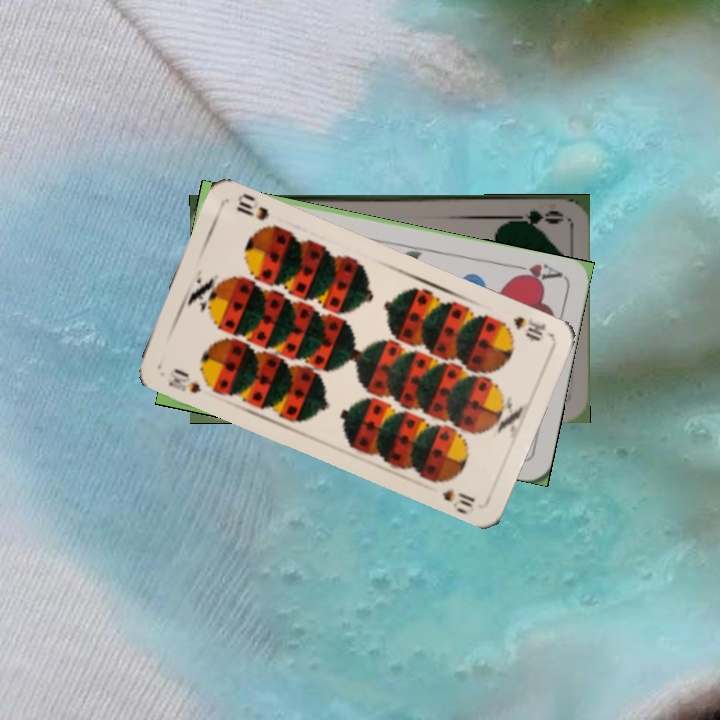GO: (504, 206, 563, 228)
HA: (506, 260, 565, 287)
S10: (508, 312, 549, 344), (164, 364, 205, 396)
